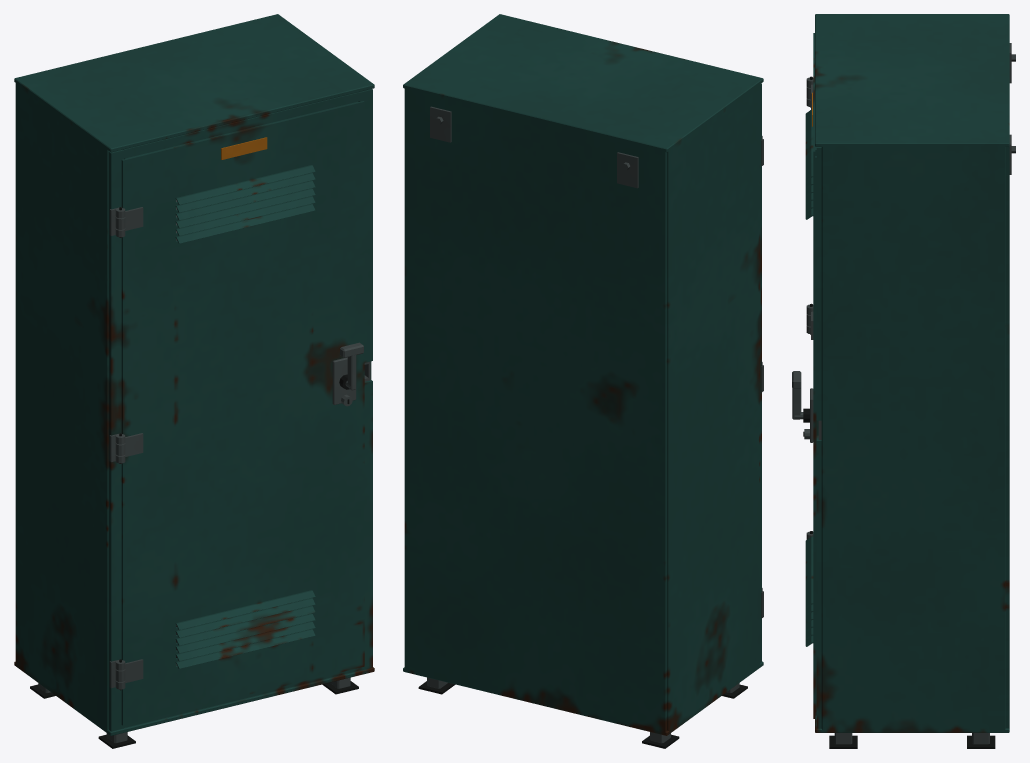
File: gun_locker.glb
3 renders of one model, left to right at view 1: azimuth 30°, elevation 25°; view 2: azimuth 150°, elevation 25°; view 3: azimuth 270°, elevation 25°, orthographic.
Visible parts, largest first — view 1: GunLockerDoor, GunLockerBody, GunLockerHandle; view 2: GunLockerBody; view 3: GunLockerBody, GunLockerDoor, GunLockerHandle.
Boxes of the visible parts, left/top/right/bottom form: GunLockerDoor: left=115, top=101, right=364, bottom=725; GunLockerBody: left=14, top=14, right=374, bottom=748; GunLockerHandle: left=340, top=342, right=363, bottom=390; GunLockerBody: left=403, top=14, right=763, bottom=748; GunLockerBody: left=806, top=14, right=1015, bottom=748; GunLockerDoor: left=803, top=33, right=818, bottom=718; GunLockerHandle: left=792, top=371, right=803, bottom=419.
Size of what is drawn, in the model's own units: 0.82 by 1.8 by 0.5985.
Materials: 4 (4 with a texture image).
